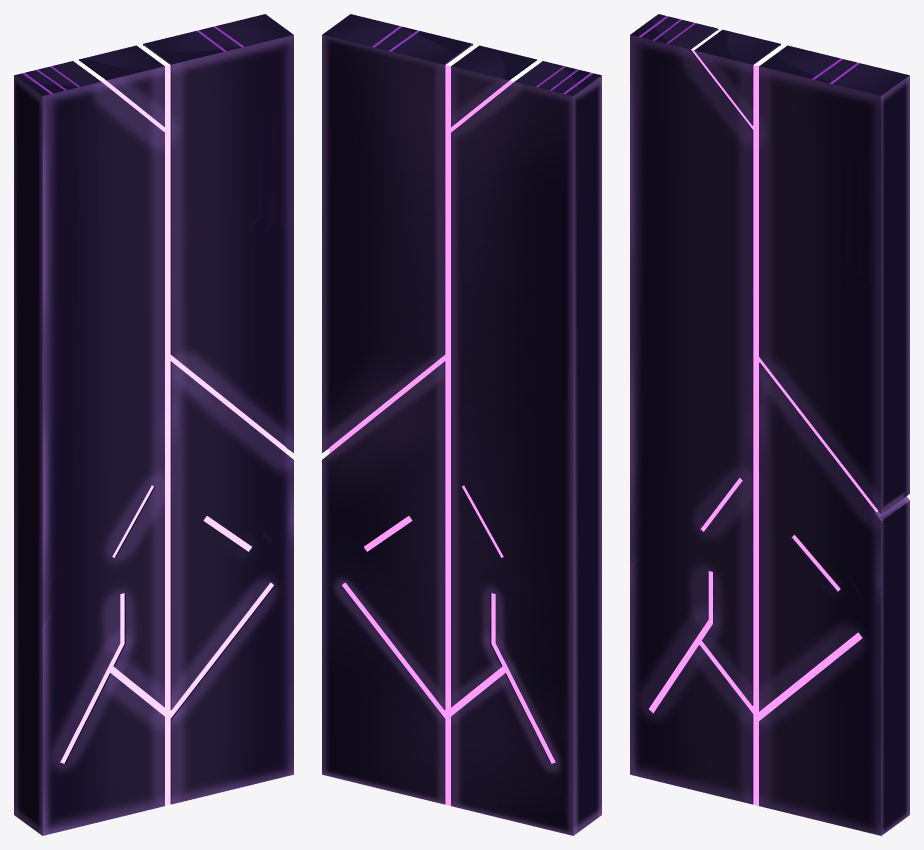
The model's file is CyberWall 1.glb.
3 renders of one model, left to right at view 1: azimuth 30°, elevation 25°; view 2: azimuth 150°, elevation 25°; view 3: azimuth 330°, elevation 25°, orthographic.
Parts seen in each view (by area): view 1: polySurface8, Wall_Light1; view 2: polySurface8, Wall_Light1; view 3: polySurface8, Wall_Light1.
Part boxes in pixels (x1,y1,x2,y2): polySurface8: (14, 14, 293, 835); Wall_Light1: (60, 45, 286, 805); polySurface8: (322, 14, 601, 835); Wall_Light1: (329, 45, 555, 805); polySurface8: (630, 14, 909, 835); Wall_Light1: (649, 30, 878, 805).
Bounding box in the file's own units: 2.51 × 7.06 × 0.4915.
Materials: 2 (1 with a texture image).
